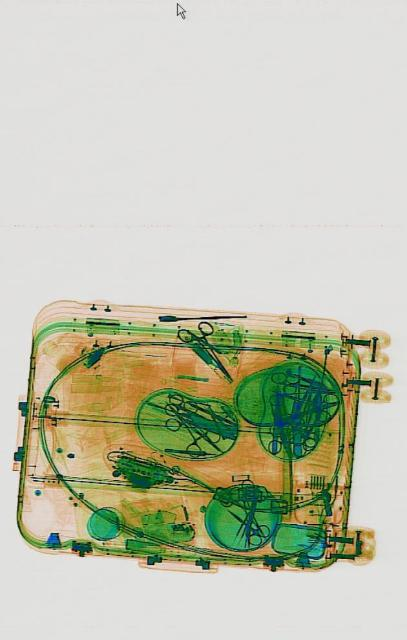Scissors: (175, 303, 238, 397), (156, 381, 221, 469), (222, 494, 271, 554), (267, 370, 333, 410)
